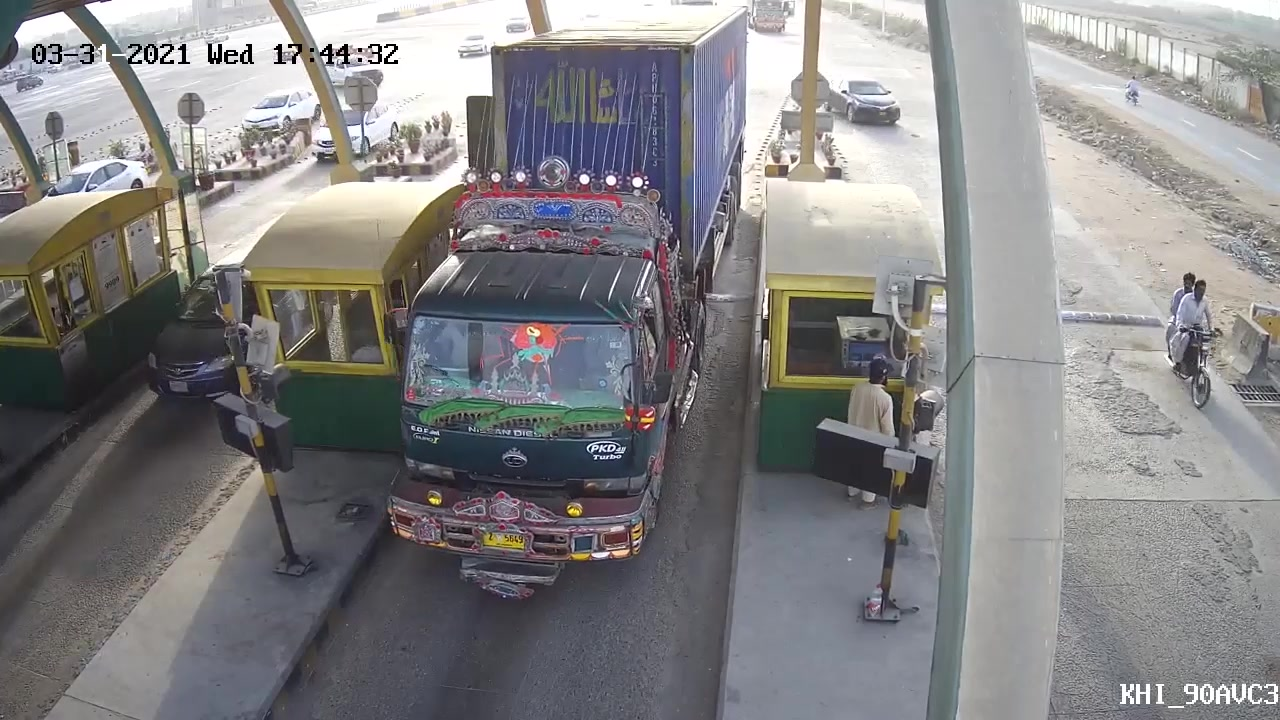F6: (385, 12, 742, 604)
